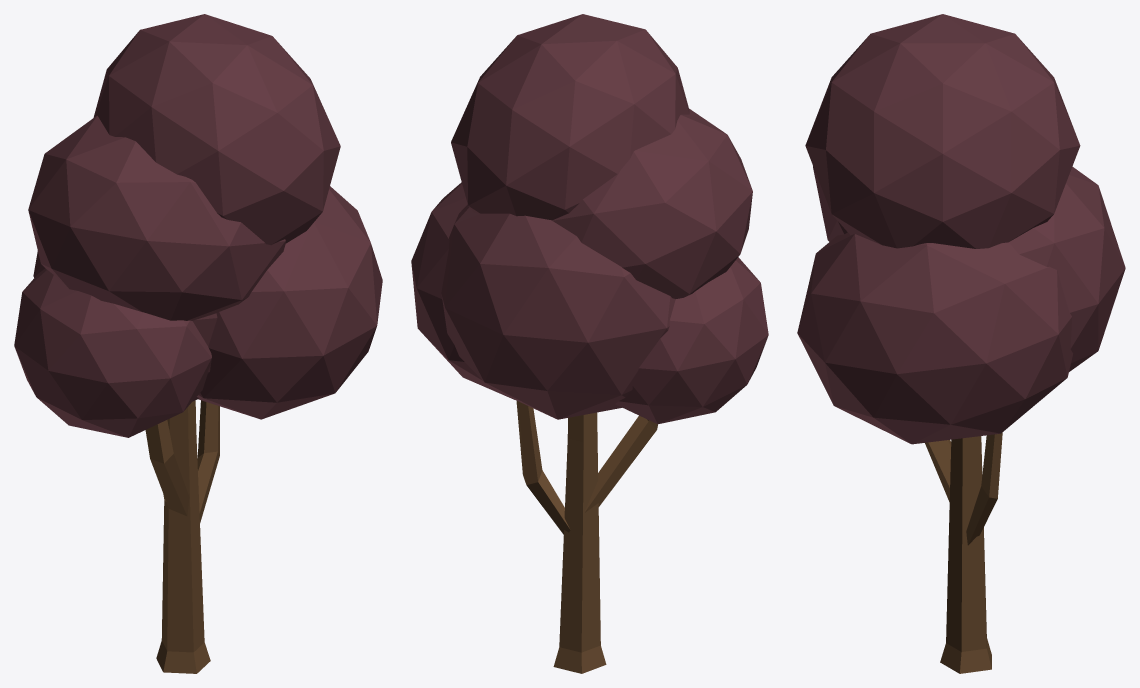
Rendered from tree-maple.fbx.
The picture shows the model from 3 angles, left to right: view 1: azimuth 30°, elevation 25°; view 2: azimuth 150°, elevation 25°; view 3: azimuth 270°, elevation 25°; orthographic projection. The views are drawn at different scales.
Visible parts, largest first — view 1: tree-maple; view 2: tree-maple; view 3: tree-maple.
Part boxes in pixels (bbox=[...]): tree-maple: bbox=[14, 14, 382, 673]; tree-maple: bbox=[411, 14, 768, 673]; tree-maple: bbox=[797, 14, 1125, 673].
Bounding box in the file's own units: 3.77 × 6.99 × 3.27.
